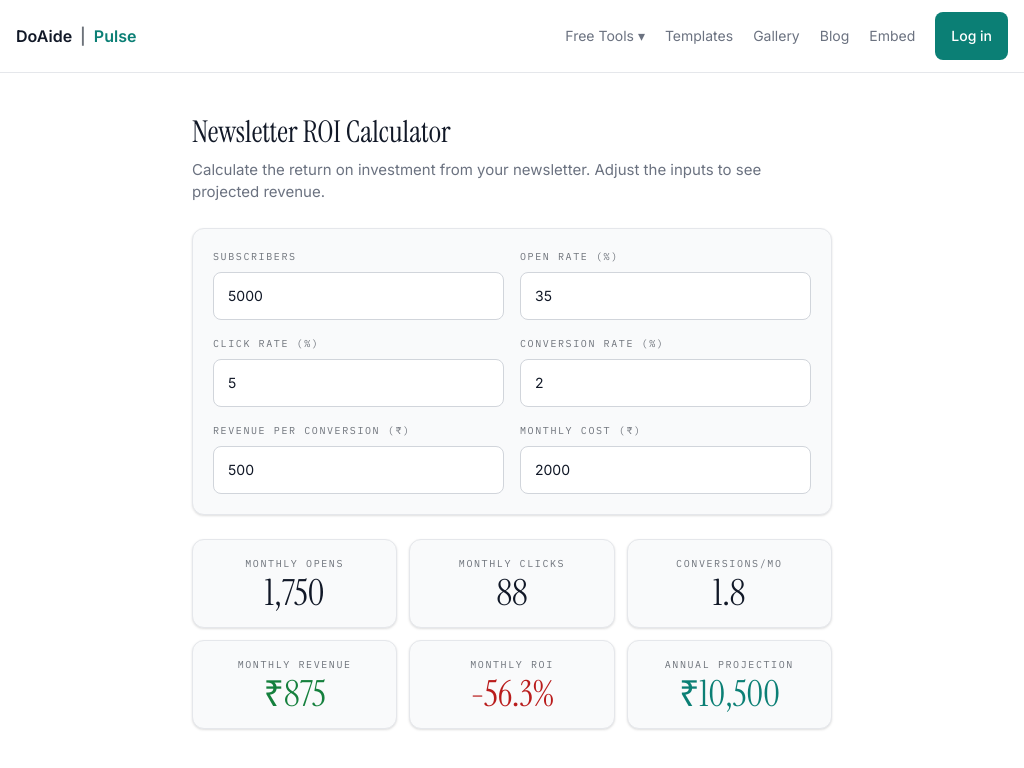
NewsletterRoiCalculator › clamps negative inputs to zero instead of producing negative revenue
fireEvent.change is more reliable than userEvent.type for number inputs in jsdom
Replace the text in the number field labelled "Subscribers" with "-100" at (358, 296), box [213, 272, 504, 320]
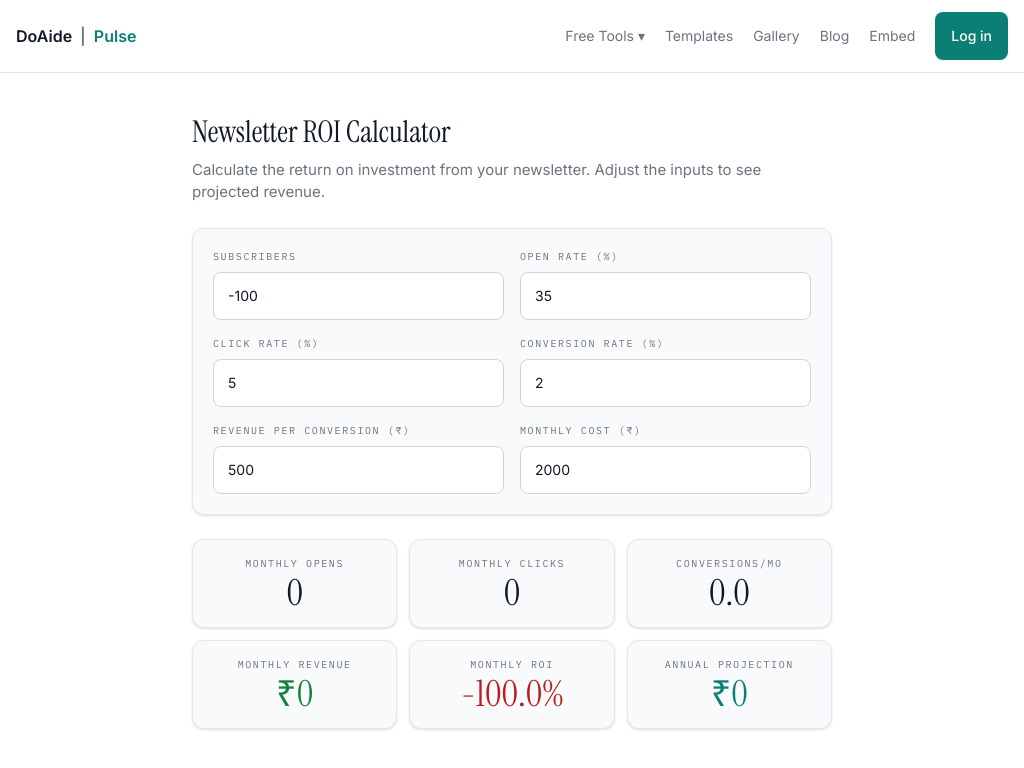
expect the text with test id "revenue" reads "₹0": met, box [276, 670, 313, 716]
